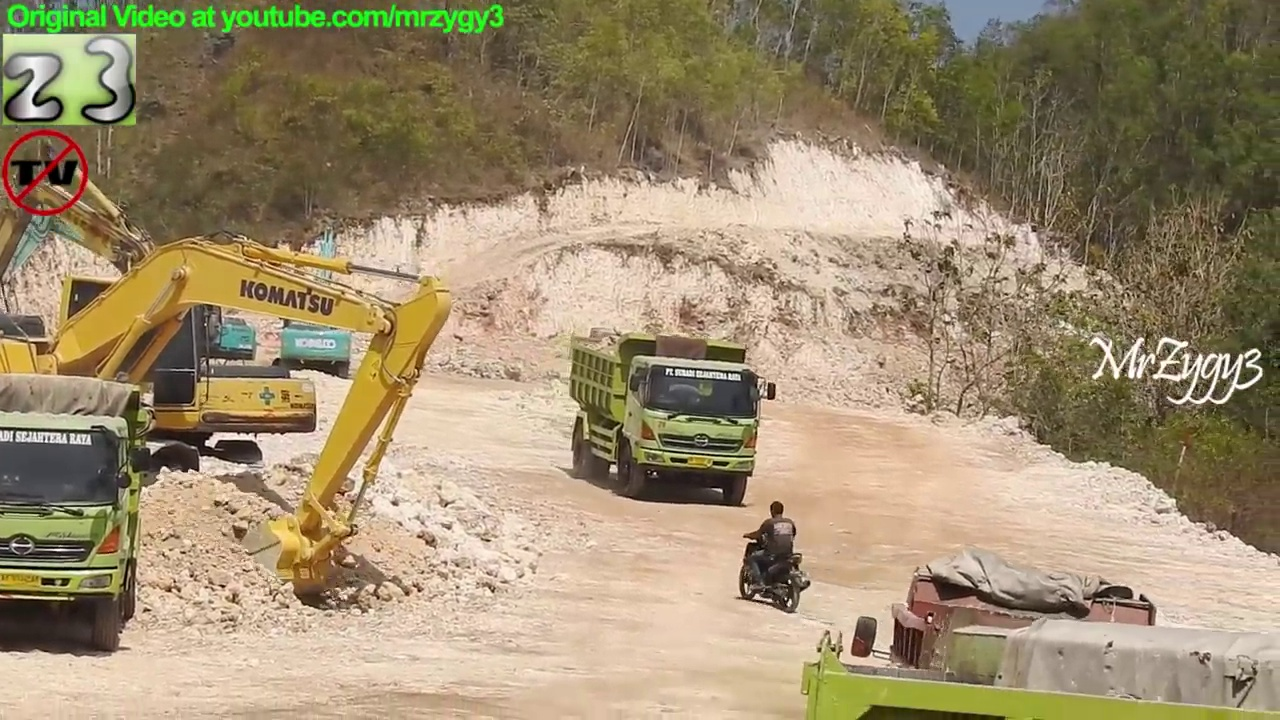excavator: (3, 230, 454, 602), (2, 137, 322, 474), (5, 198, 272, 410), (271, 214, 358, 382)
truck: (848, 544, 1162, 720), (795, 617, 1280, 720), (1, 365, 155, 657), (567, 321, 779, 509)
